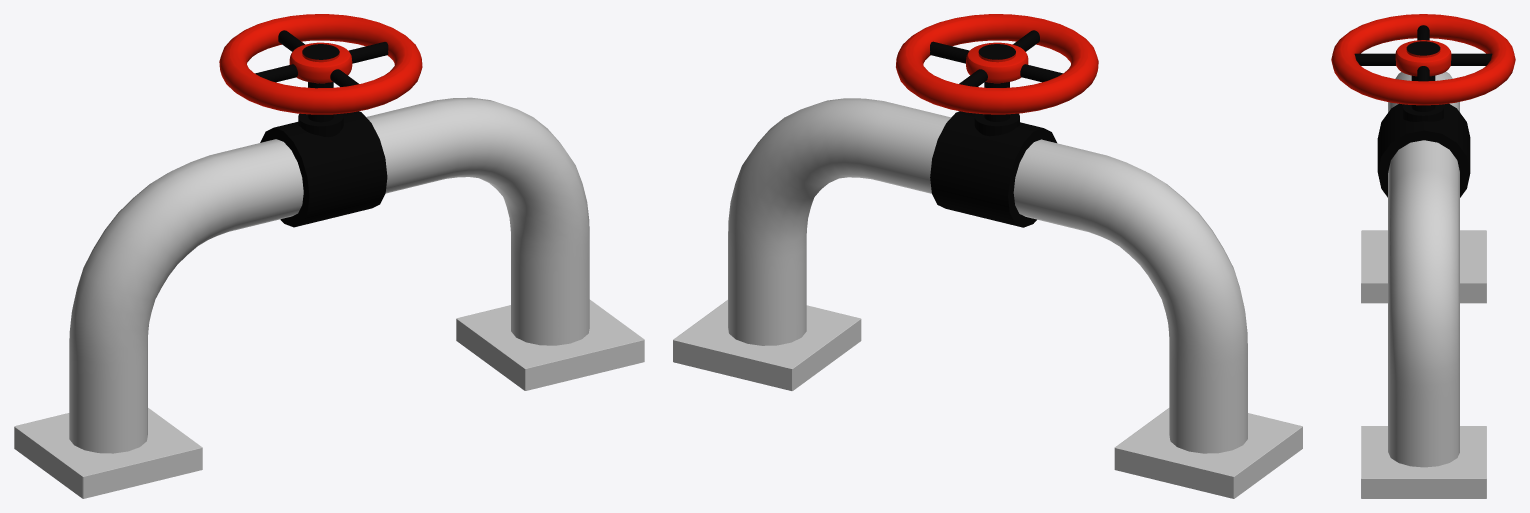
The model's file is Pipe 2.fbx.
3 views of the same model, side by side, from view 1: azimuth 30°, elevation 25°; view 2: azimuth 150°, elevation 25°; view 3: azimuth 270°, elevation 25° (orthographic). The views are drawn at different scales.
Visible parts, largest first — view 1: Pipe 2; view 2: Pipe 2; view 3: Pipe 2.
Part boxes in pixels (x1,y1,x2,y2): Pipe 2: (14,14,644,498); Pipe 2: (673,14,1302,498); Pipe 2: (1331,14,1515,498).
Bounding box in the file's own units: 347 × 210 × 109.
